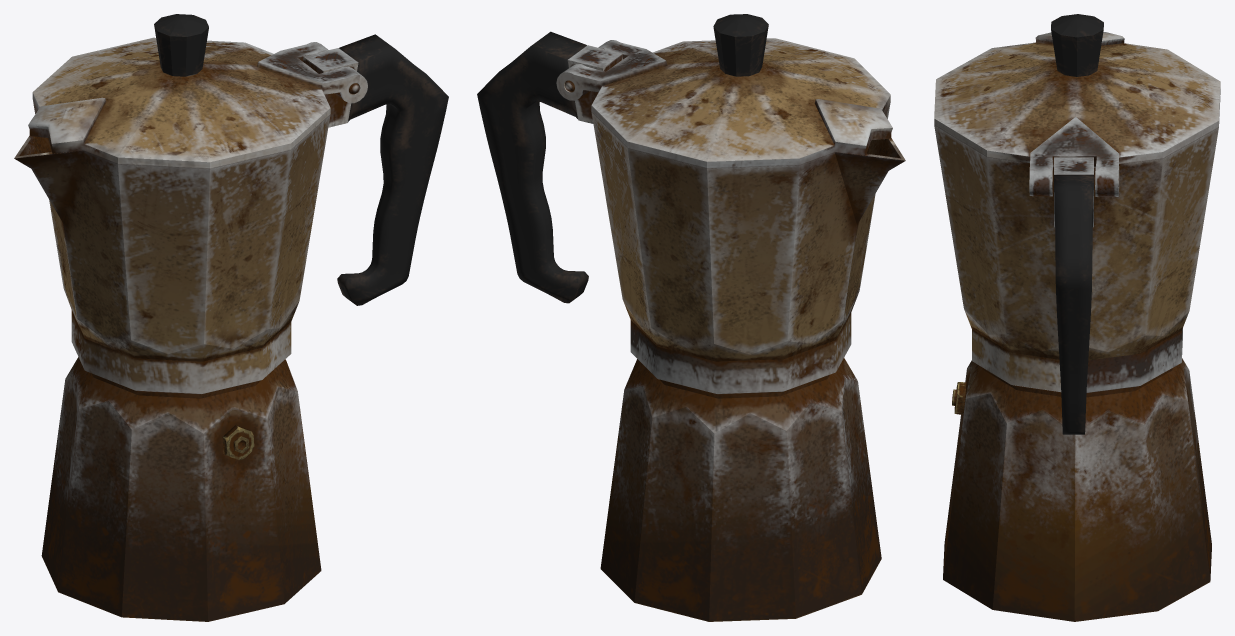
File: old_italian_coffee_maker_moka.glb
The picture shows the model from 3 angles, left to right: view 1: azimuth 30°, elevation 25°; view 2: azimuth 150°, elevation 25°; view 3: azimuth 270°, elevation 25°; orthographic projection.
Parts seen in each view (by area): view 1: Circle.002; view 2: Circle.002; view 3: Circle.002.
Part boxes in pixels (x1=…): Circle.002: x1=14, y1=14, x2=448, y2=621; Circle.002: x1=477, y1=14, x2=905, y2=621; Circle.002: x1=934, y1=14, x2=1220, y2=621.
Size of the model in its own units: 3 by 3.75 by 1.76.
Materials: 1 (1 with a texture image).
